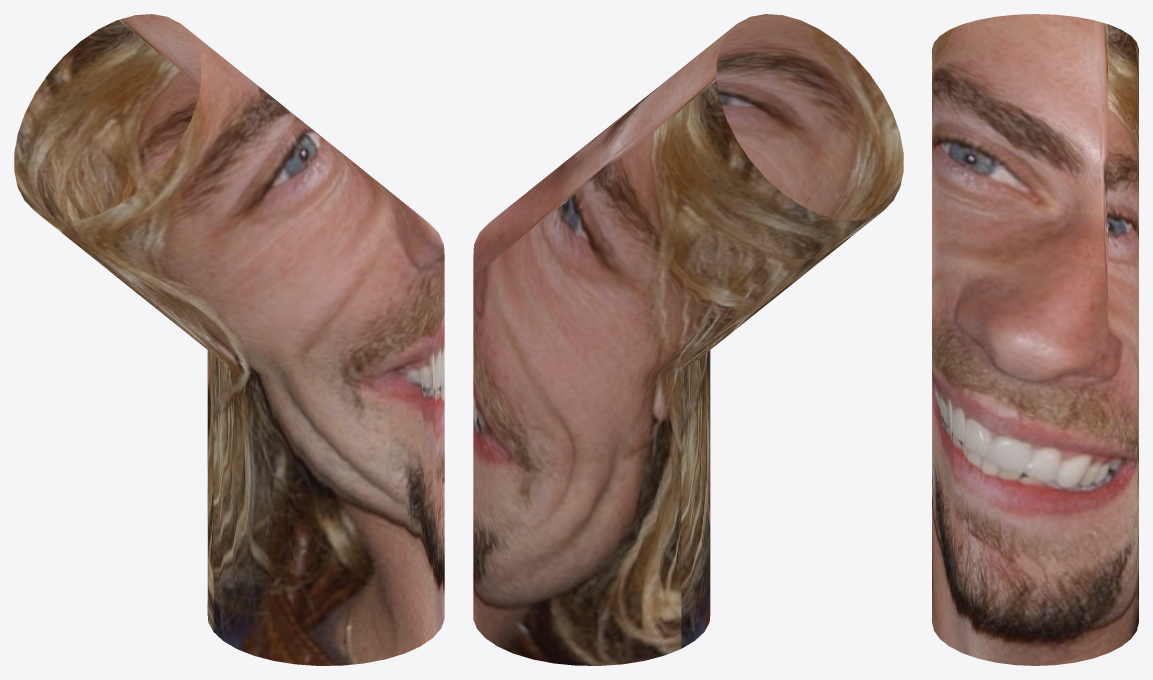
File: kroeger-elbow-joint.glb
3 views of the same model, side by side, from view 1: azimuth 30°, elevation 25°; view 2: azimuth 150°, elevation 25°; view 3: azimuth 270°, elevation 25° (orthographic). The views are drawn at different scales.
Parts seen in each view (by area): view 1: Elbow Joint; view 2: Elbow Joint; view 3: Elbow Joint.
Boxes of the visible parts, x1=… form: Elbow Joint: x1=14, y1=14, x2=444, y2=665; Elbow Joint: x1=473, y1=14, x2=903, y2=665; Elbow Joint: x1=932, y1=14, x2=1138, y2=665.
Bounding box in the file's own units: 3.83 × 5.83 × 2.
1 material, 1 textured.
